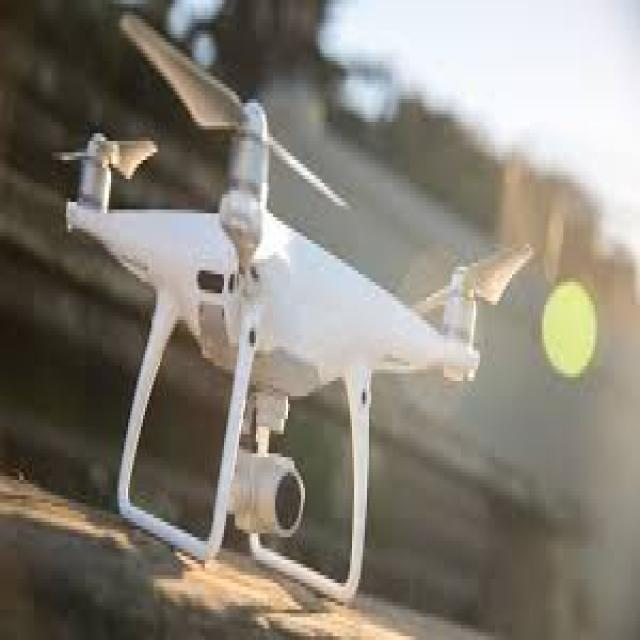drone: (46, 0, 538, 640)
